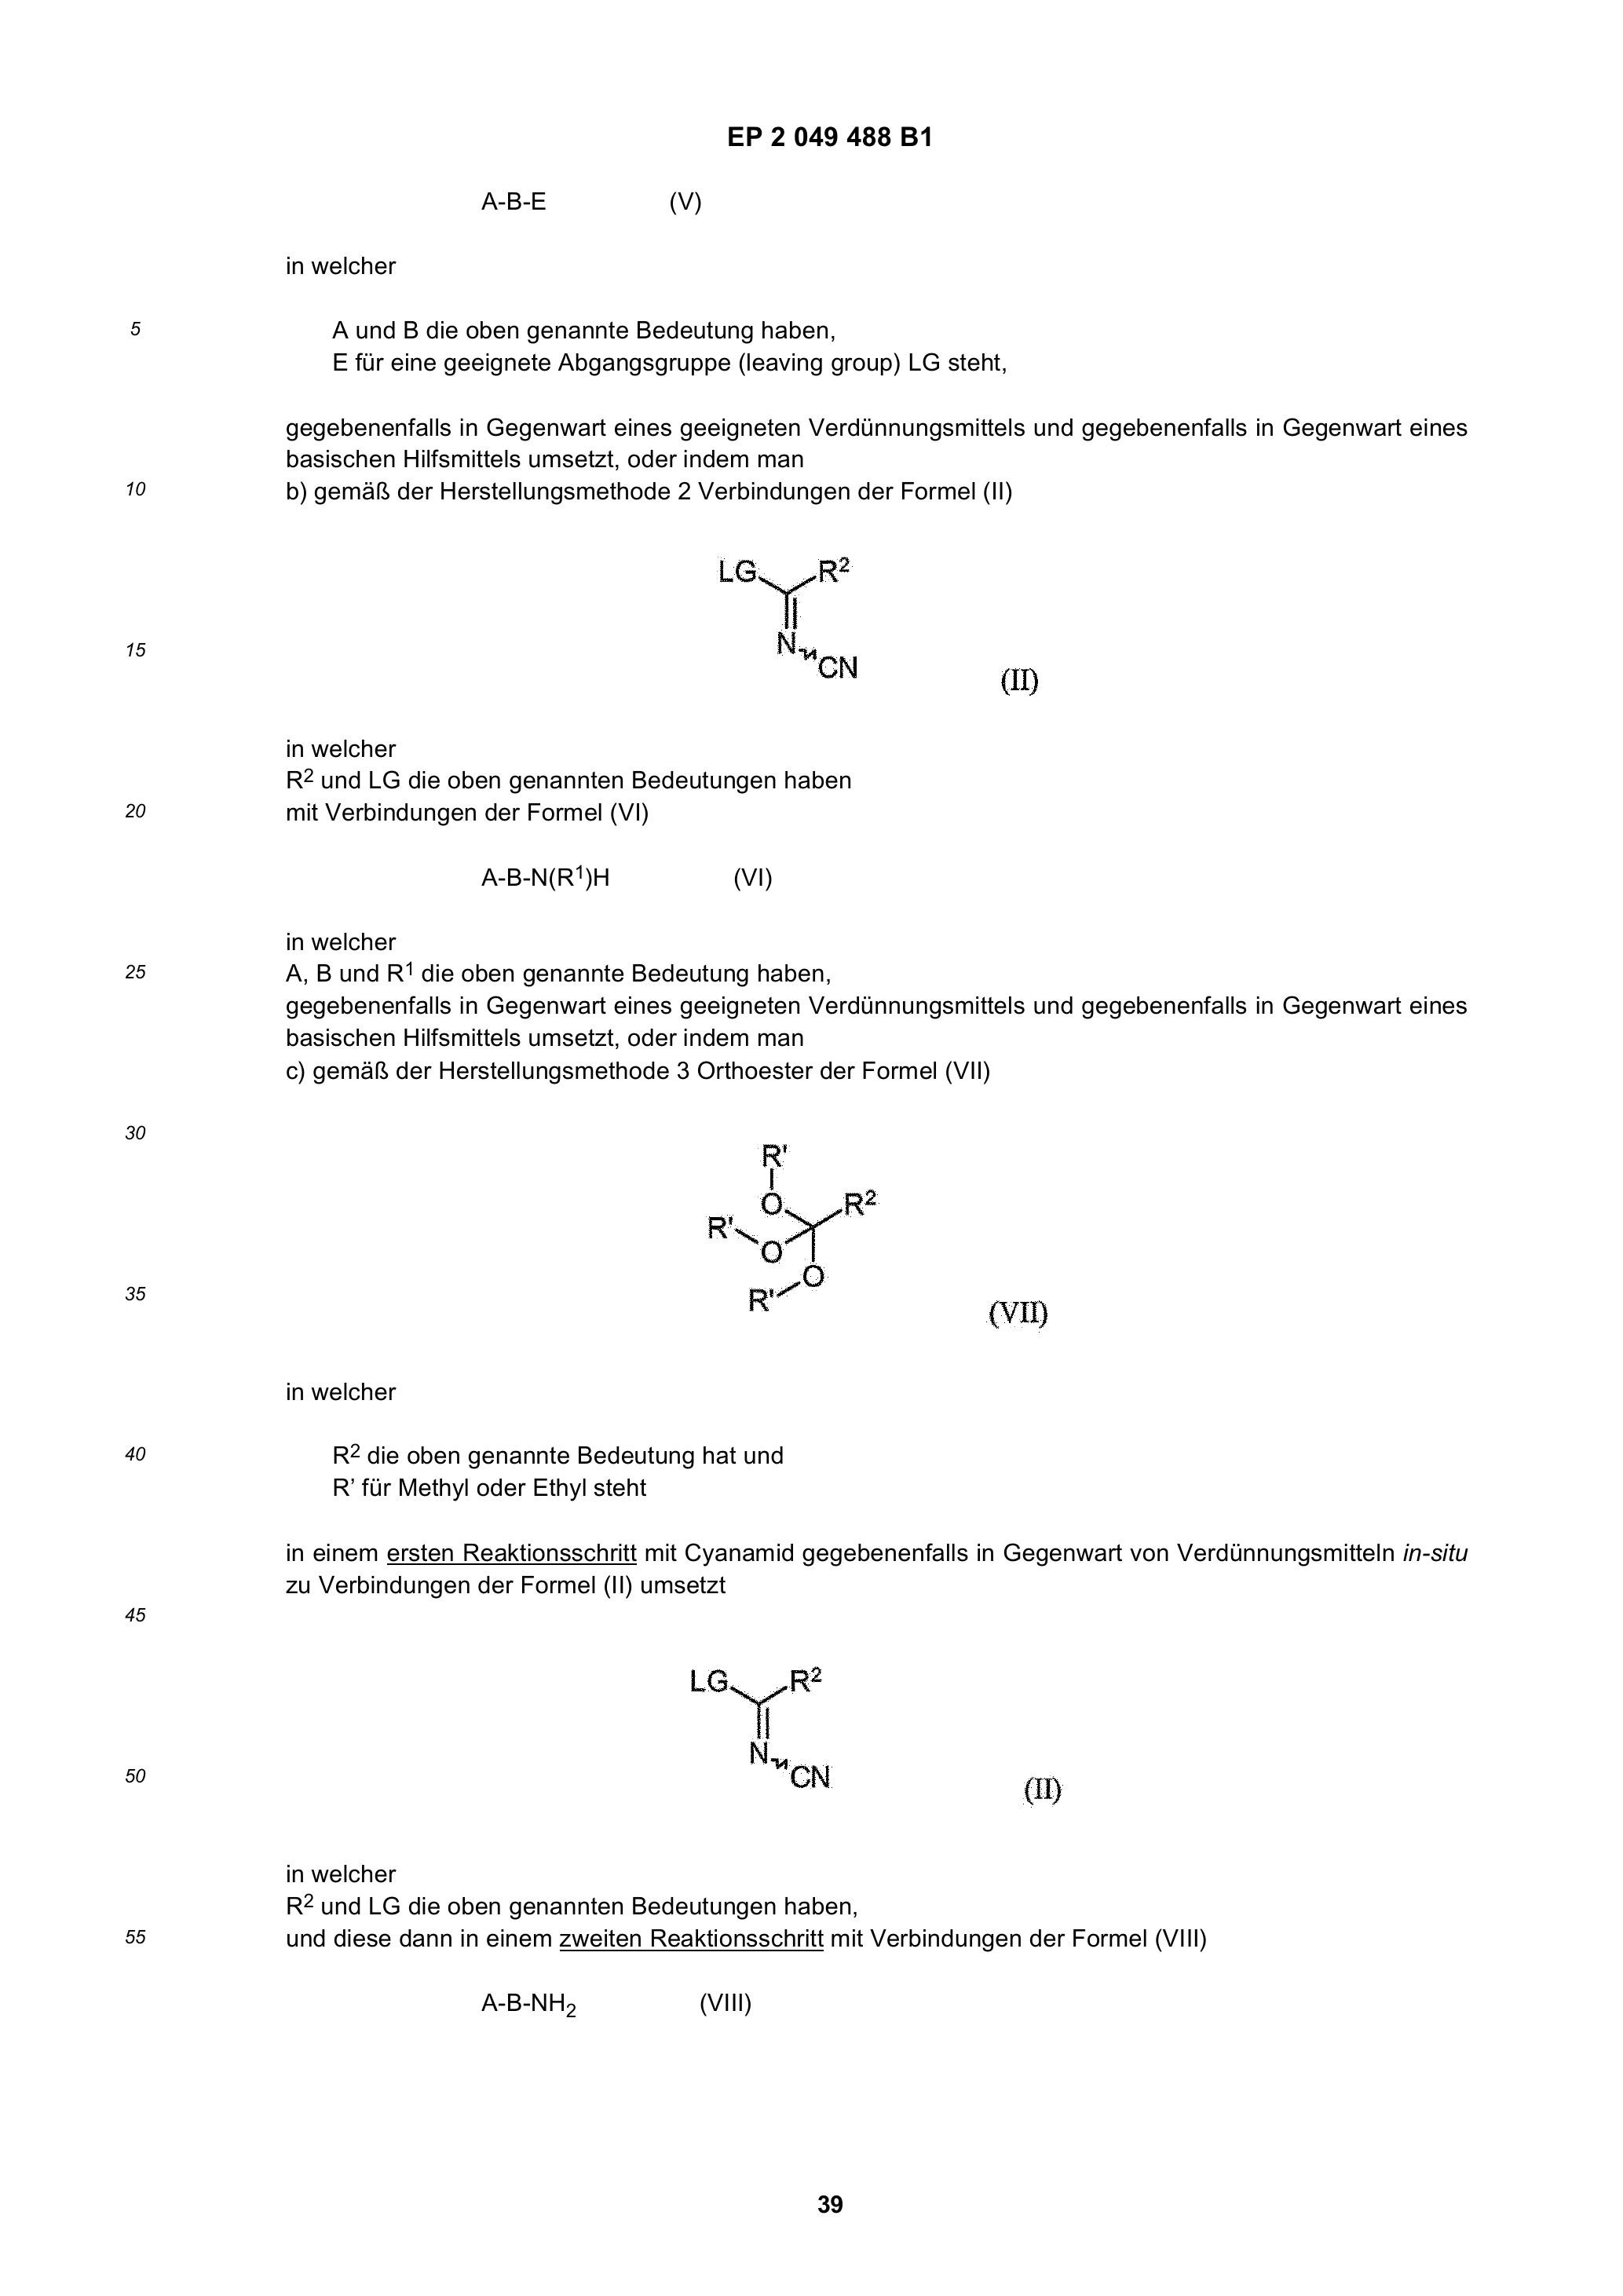markush-structures: (645, 1637, 894, 1836), (692, 534, 915, 717), (685, 1142, 894, 1328)
